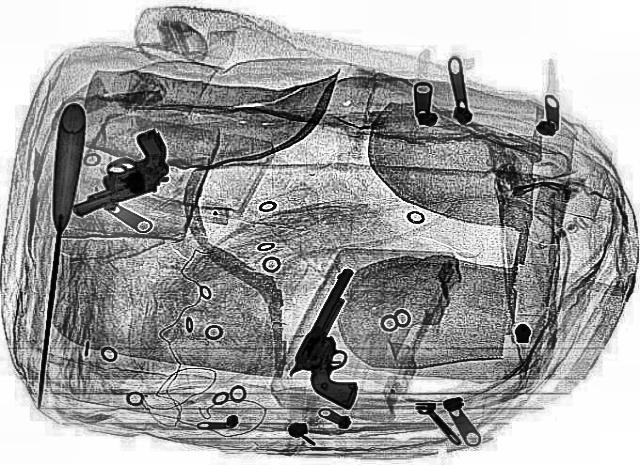Gun: (272, 266, 422, 408), (41, 127, 193, 216)
Knife: (22, 102, 86, 408)
